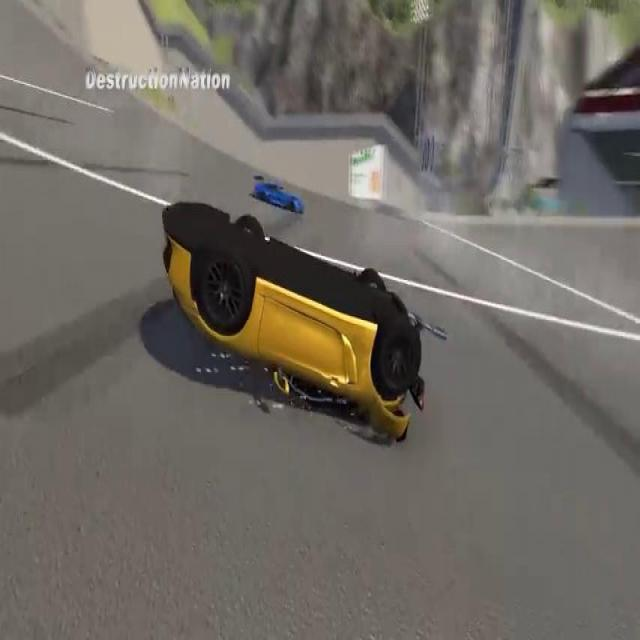accident: (160, 192, 424, 451)
